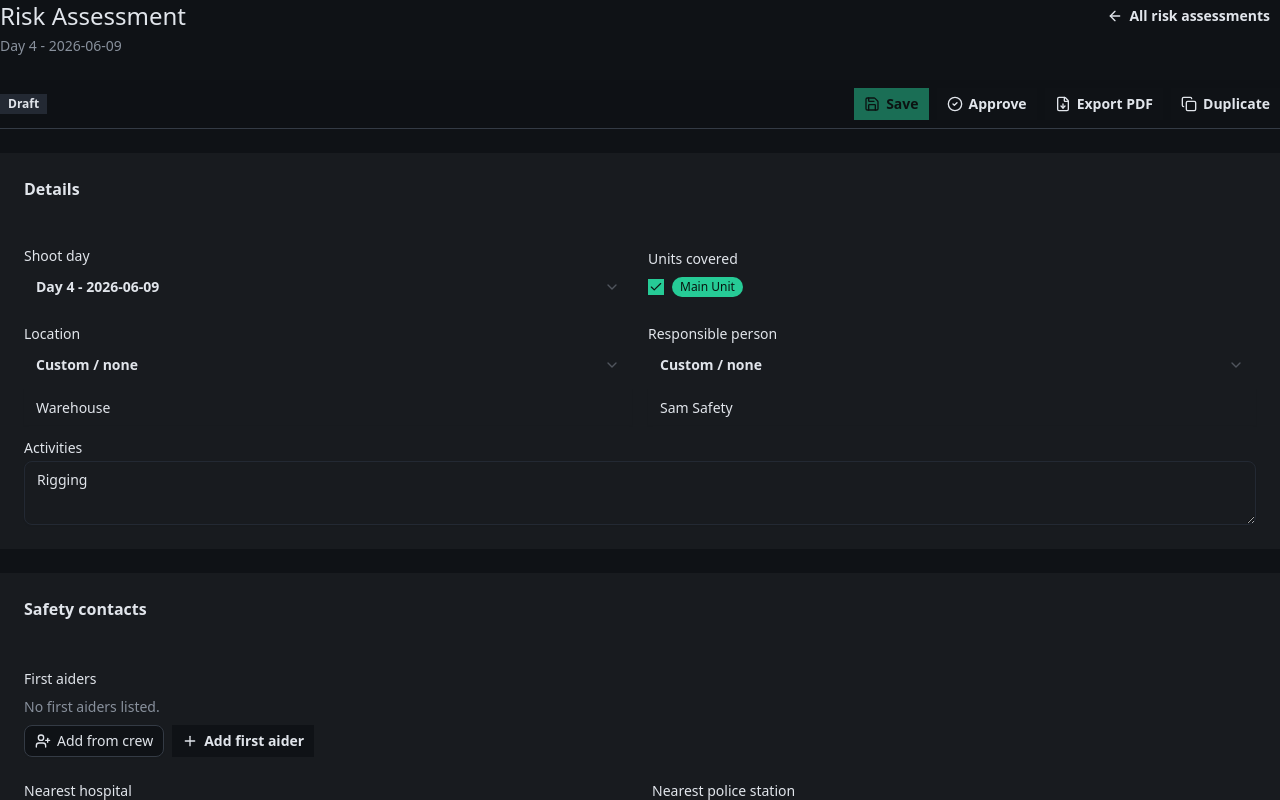
Test: RiskAssessmentEditorPage › approves with the signed-in user prefilled as approver
Step 1. Click the button "Approve" → (987, 104), box [937,88,1037,120]
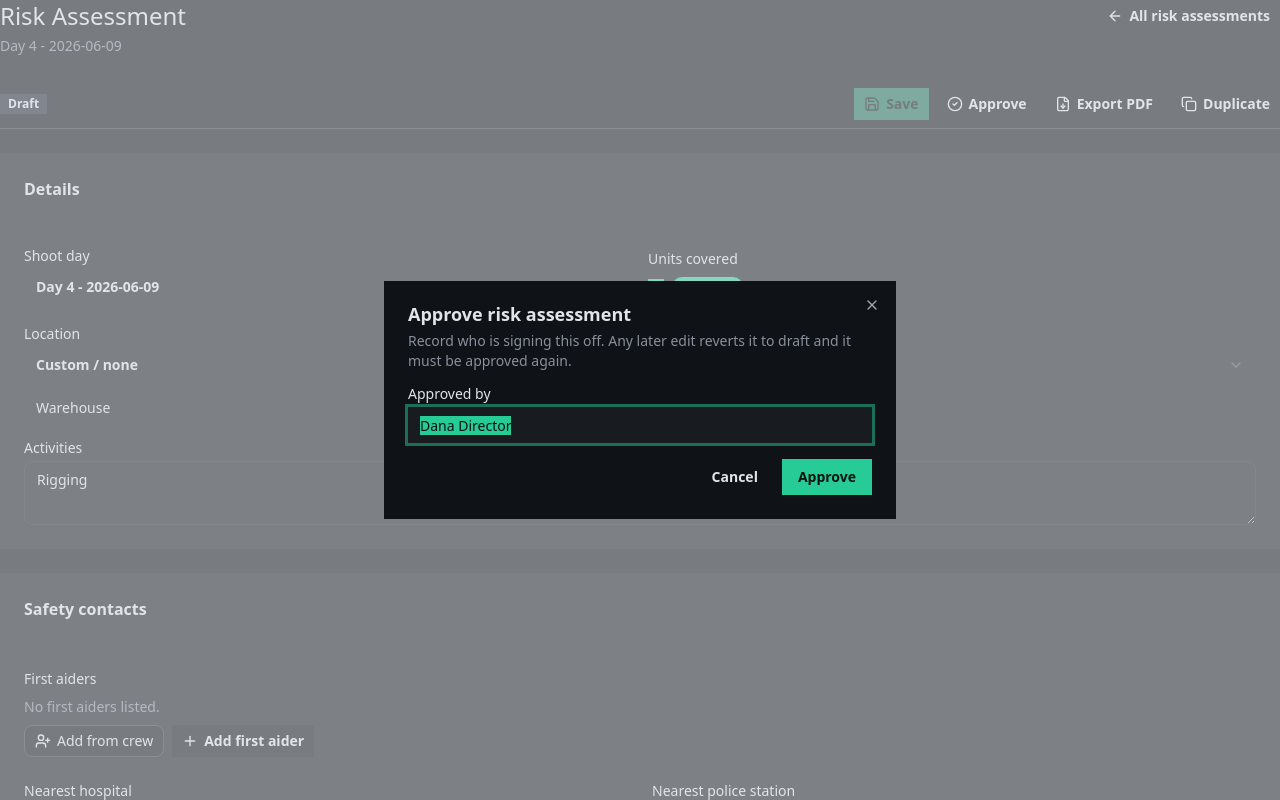
Expected: the field labelled "Approved by" holds "Dana Director", [408,407,872,443]
Step 2. Click the button "Approve" → (827, 477), box [782,459,872,495]
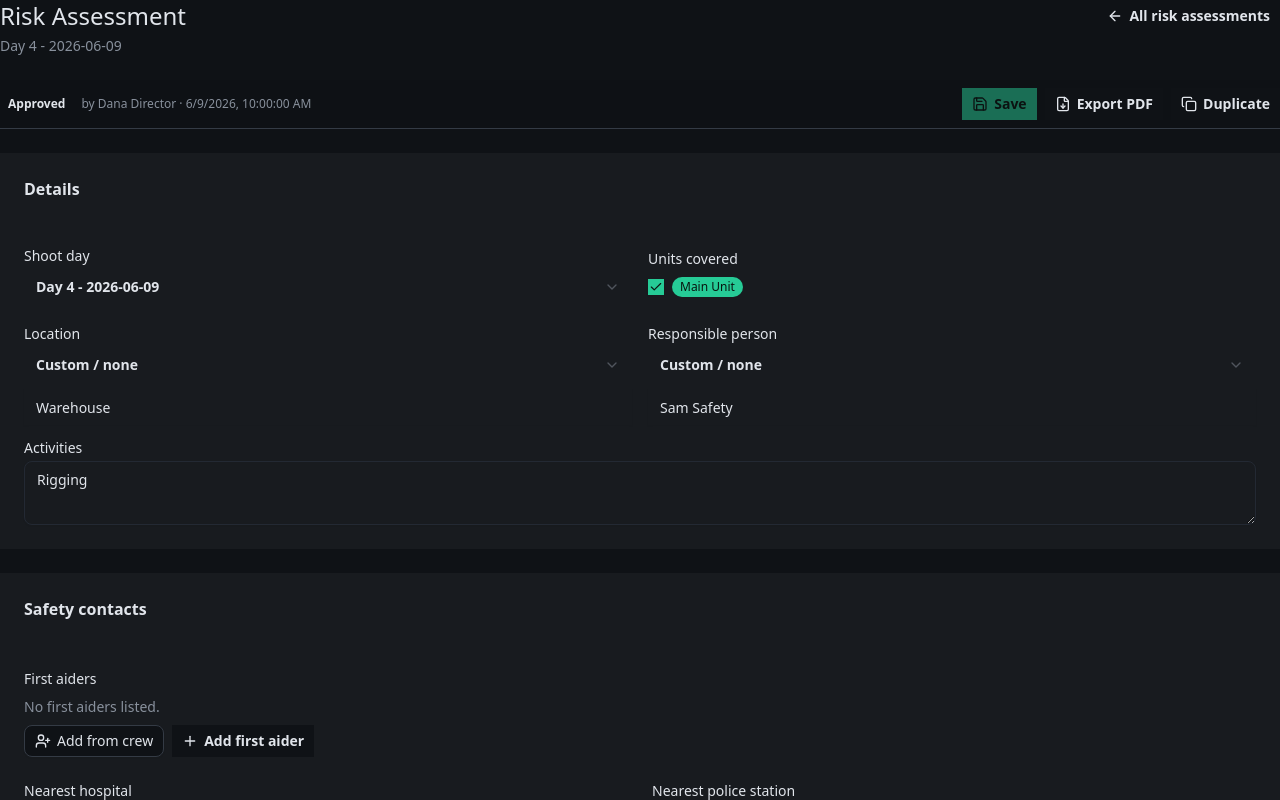
Expected: the text "Approved" is shown, [8,95,65,112]
